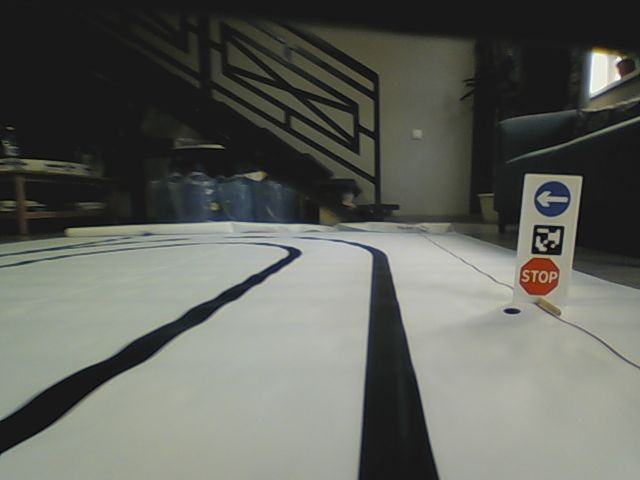Stop: (517, 255, 564, 297)
